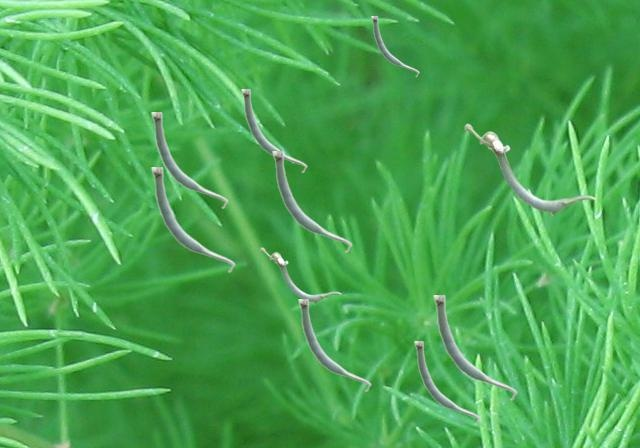french_bean: (464, 123, 595, 215), (151, 167, 234, 272), (433, 295, 516, 400), (272, 151, 351, 252), (151, 112, 227, 208), (298, 299, 370, 391), (414, 341, 479, 424), (241, 89, 306, 172), (260, 247, 340, 303), (371, 16, 418, 76)
